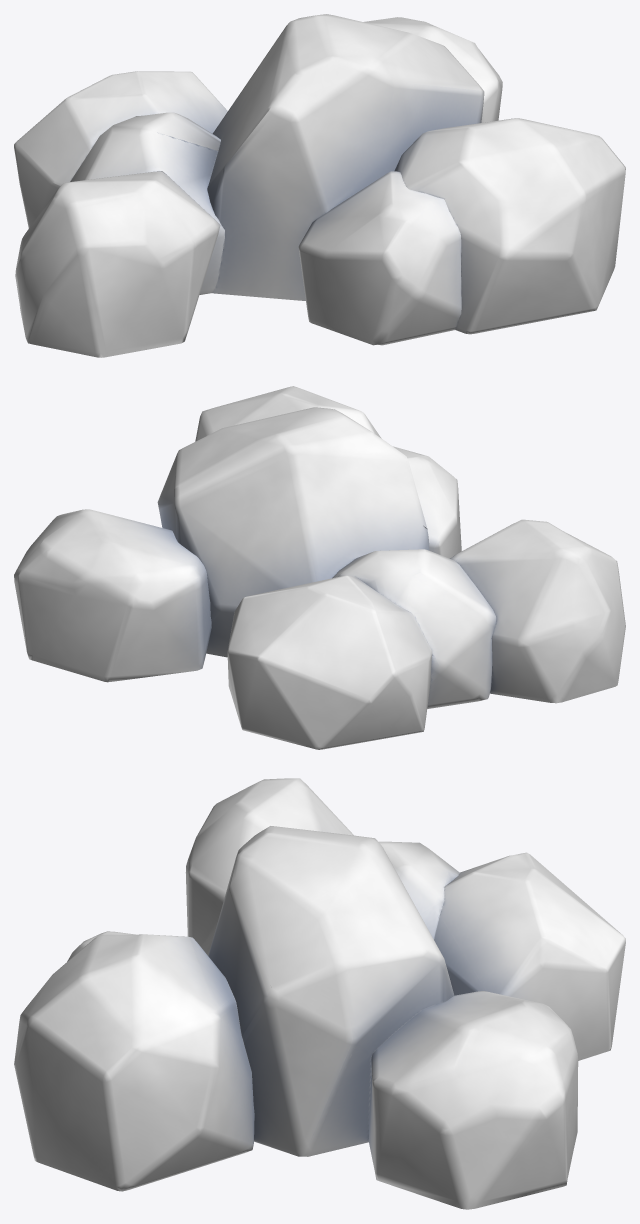
Rendered from Divin_Nuage.fbx.
3 renders of one model, top to bottom at view 1: azimuth 30°, elevation 25°; view 2: azimuth 150°, elevation 25°; view 3: azimuth 270°, elevation 25°, orthographic. The views are drawn at different scales.
Visible parts, largest first — view 1: Divin_Nuage; view 2: Divin_Nuage; view 3: Divin_Nuage.
Boxes of the visible parts, bbox=[...] form: Divin_Nuage: bbox=[14, 14, 625, 357]; Divin_Nuage: bbox=[14, 386, 625, 749]; Divin_Nuage: bbox=[14, 778, 625, 1209].
Size of the model in its own units: 1285 by 490 by 1105.
Materials: 1 (1 with a texture image).
